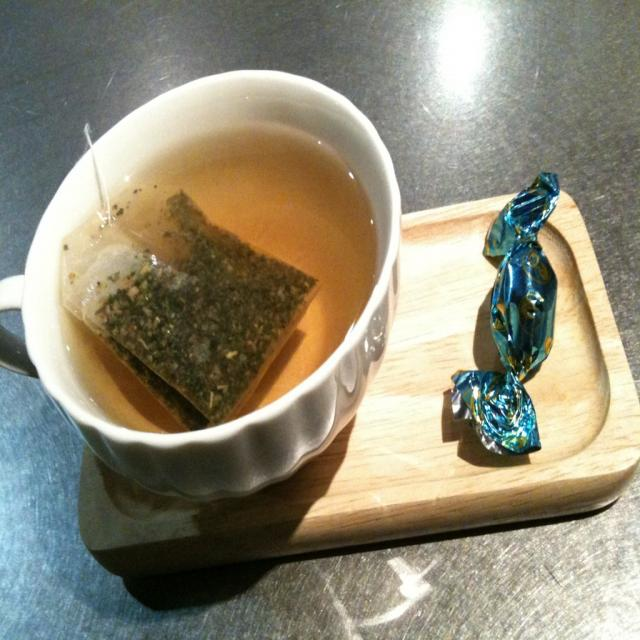Tea: (57, 132, 372, 430)
